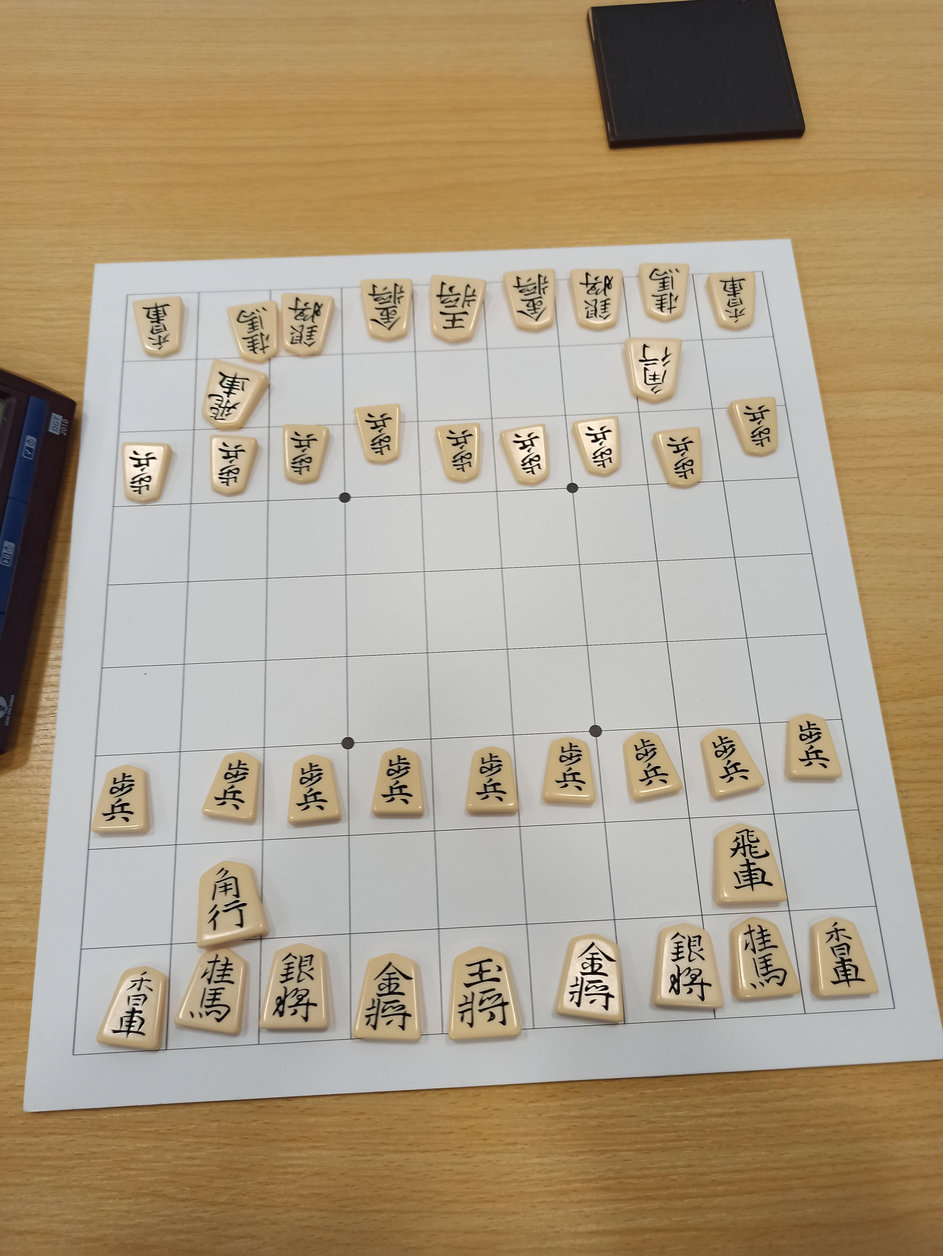board: (74, 270, 893, 1054)
